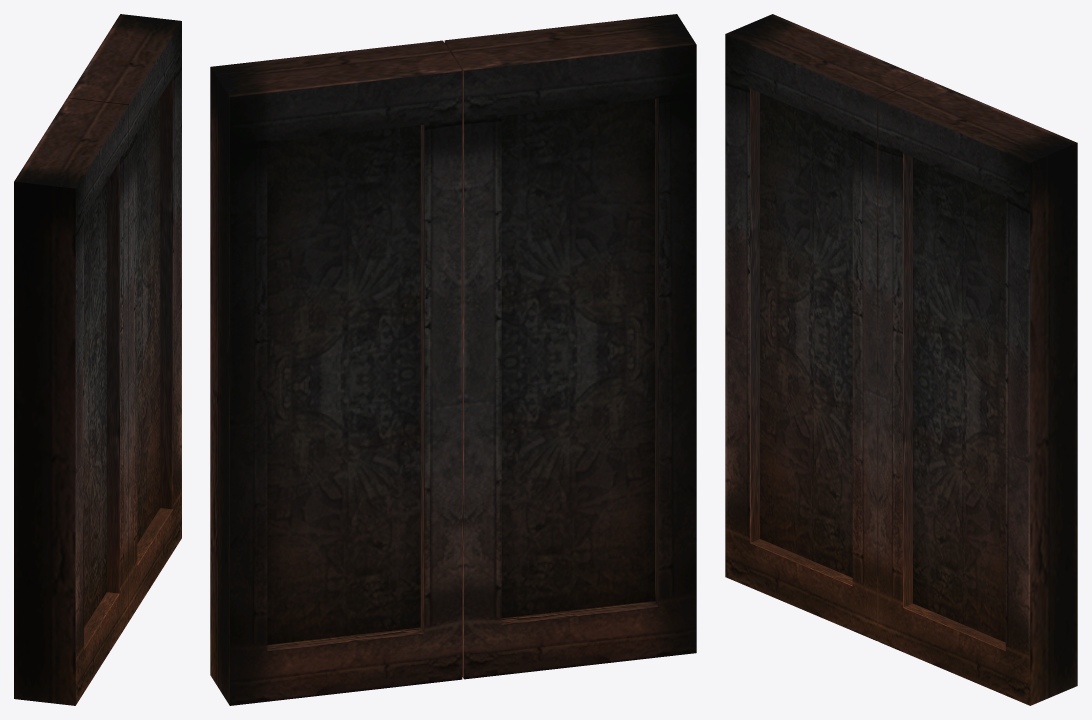
File: map_kazan_door_l.dae
3 views of the same model, side by side, from view 1: azimuth 30°, elevation 25°; view 2: azimuth 150°, elevation 25°; view 3: azimuth 270°, elevation 25° (orthographic). The views are drawn at different scales.
Parts seen in each view (by area): view 1: map_kazan_door_l, map_kazan_door_l.001; view 2: map_kazan_door_l.001, map_kazan_door_l; view 3: map_kazan_door_l.001, map_kazan_door_l.
Part boxes in pixels (bbox=[...]): map_kazan_door_l: bbox=[14, 98, 128, 705]; map_kazan_door_l.001: bbox=[67, 14, 181, 621]; map_kazan_door_l.001: bbox=[210, 40, 462, 705]; map_kazan_door_l: bbox=[444, 14, 696, 679]; map_kazan_door_l.001: bbox=[878, 78, 1077, 705]; map_kazan_door_l: bbox=[725, 14, 924, 641].
Size of the model in its own units: 5.87 by 5.87 by 9.98.
1 material, 1 textured.
